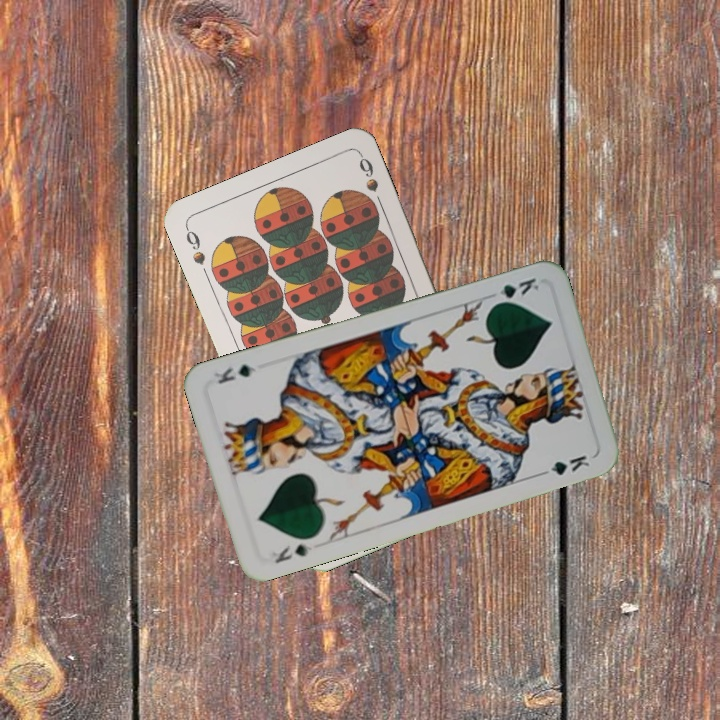GK: (485, 273, 542, 308), (267, 539, 315, 566)
S9: (181, 223, 208, 268)
